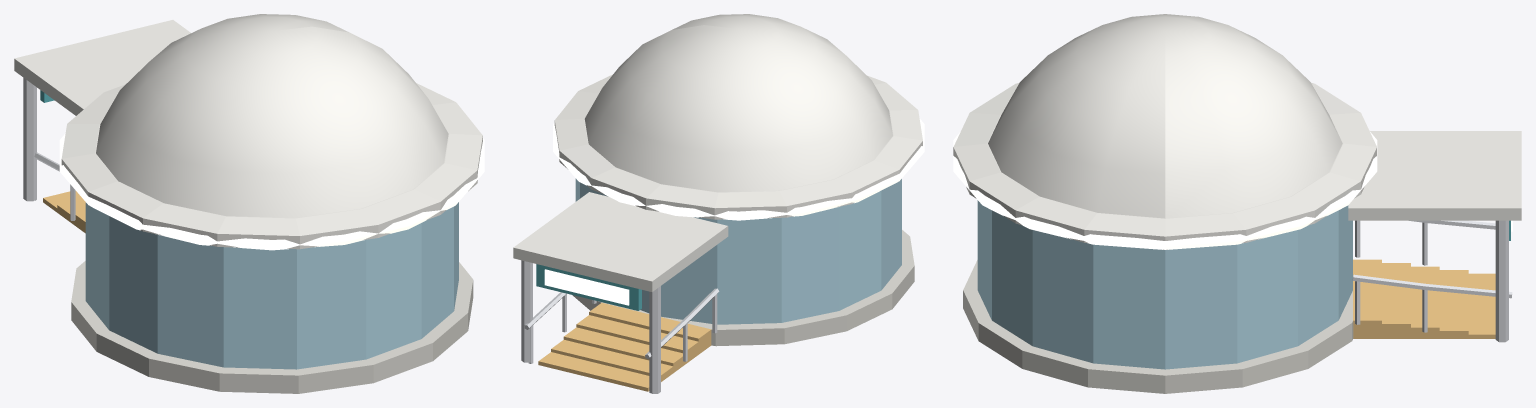
Rendered from arcology-towers-and-skyways-transit-portal-head-house-f12ca1bb__23266.glb.
3 views of the same model, side by side, from view 1: azimuth 30°, elevation 25°; view 2: azimuth 150°, elevation 25°; view 3: azimuth 270°, elevation 25° (orthographic). The views are drawn at different scales.
Parts seen in each view (by area): view 1: transit-portal-head-house; view 2: transit-portal-head-house; view 3: transit-portal-head-house.
Part boxes in pixels (bbox=[...]): transit-portal-head-house: bbox=[14, 14, 484, 393]; transit-portal-head-house: bbox=[513, 14, 924, 393]; transit-portal-head-house: bbox=[953, 14, 1521, 393].
Bounding box in the file's own units: 8.94 × 6.35 × 11.8.
